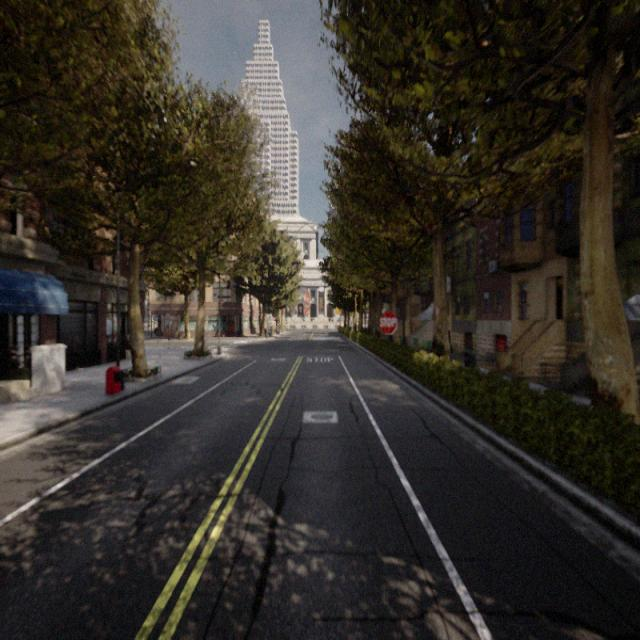stop sign: (377, 307, 399, 337), (378, 316, 397, 332)
